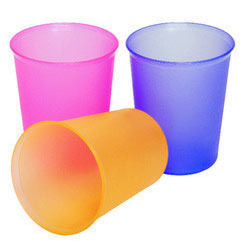plastic_bottle: (9, 106, 173, 238), (124, 20, 236, 178)
